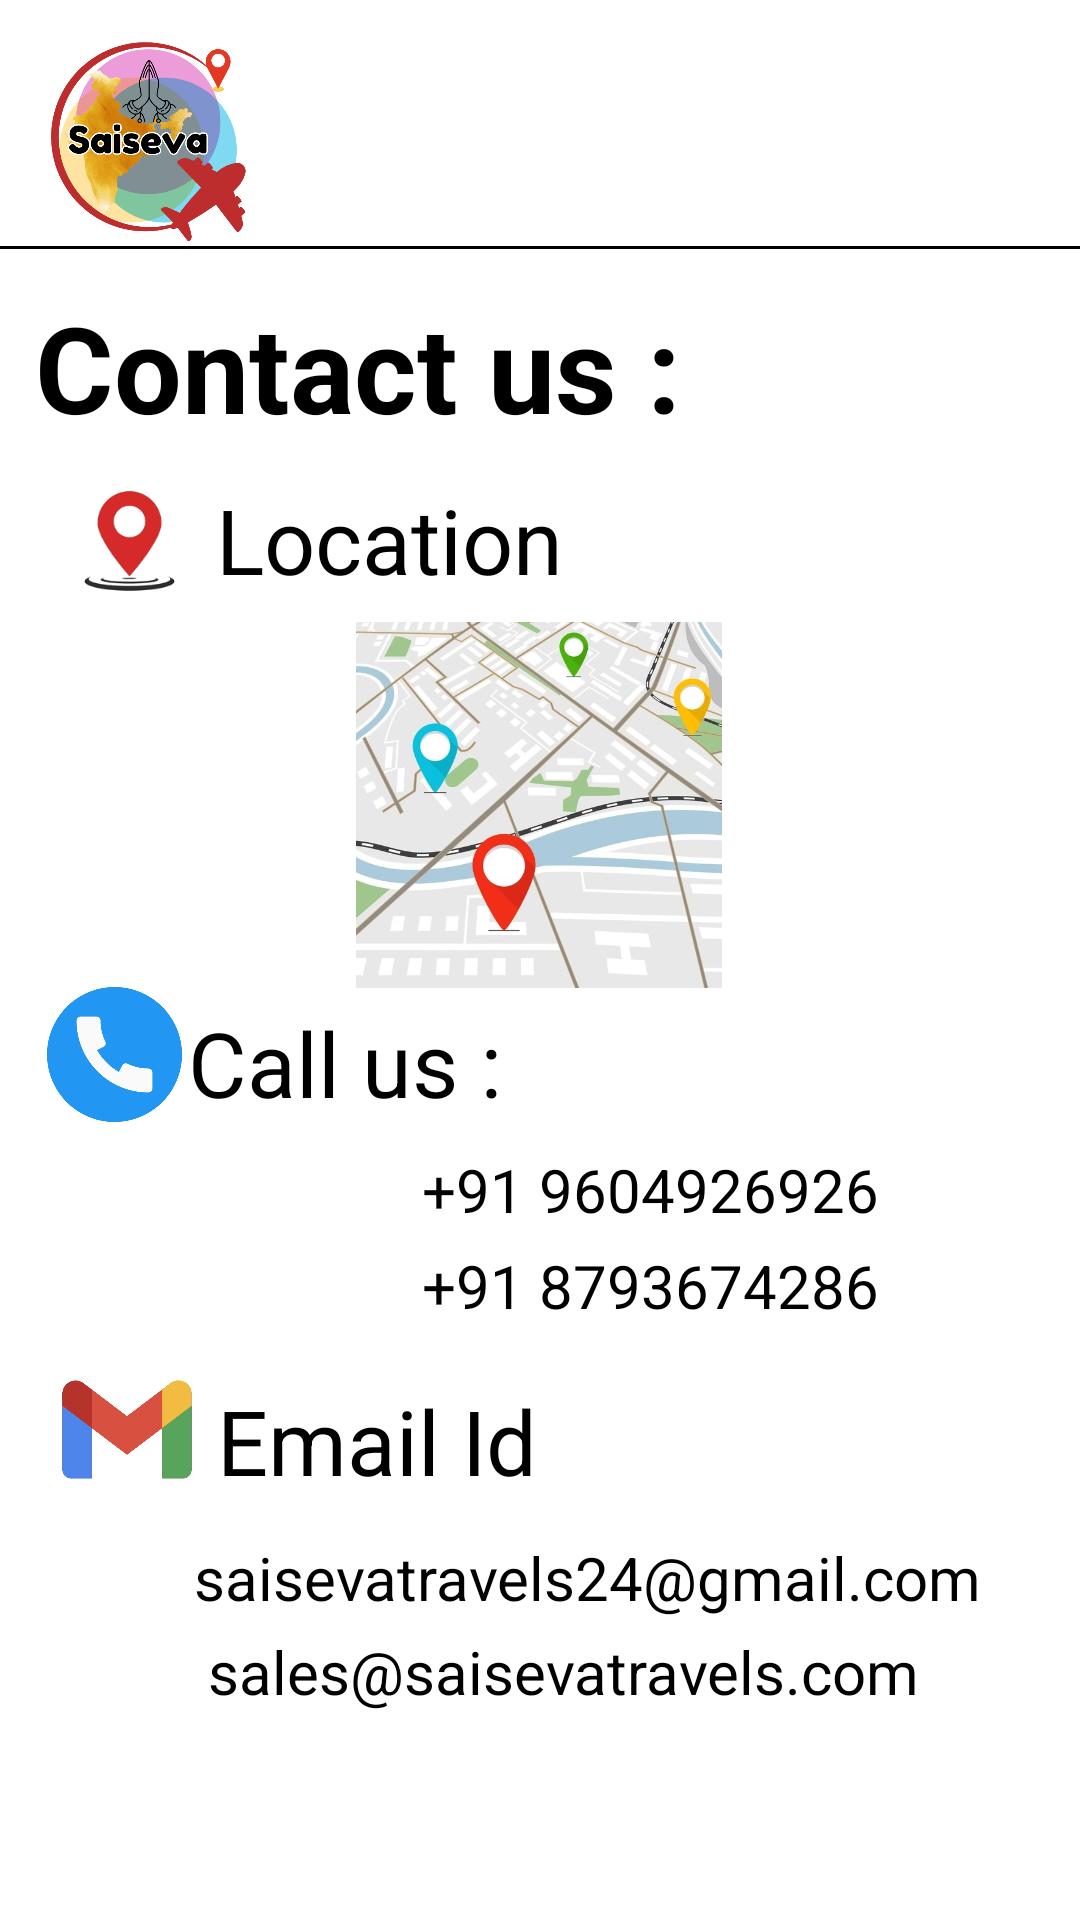

Screen size 1080px x 1920px. Icon name, then its center in pixels as (x,y):
telephone: (114,1054)
